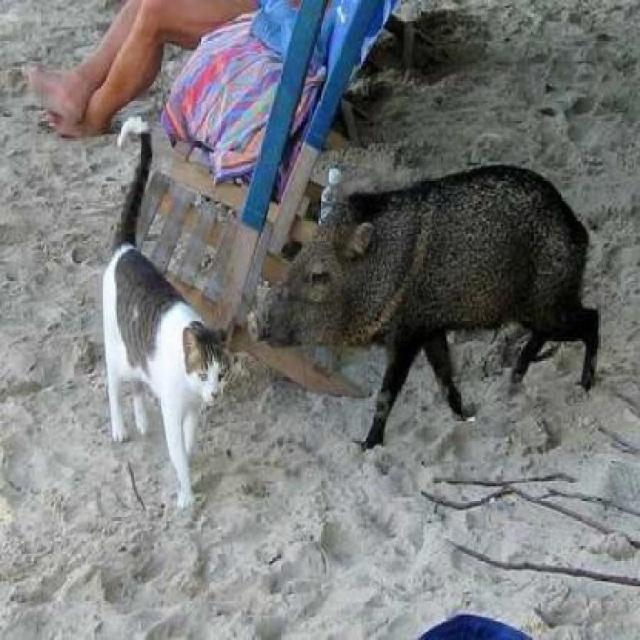Boar: (250, 160, 636, 442)
